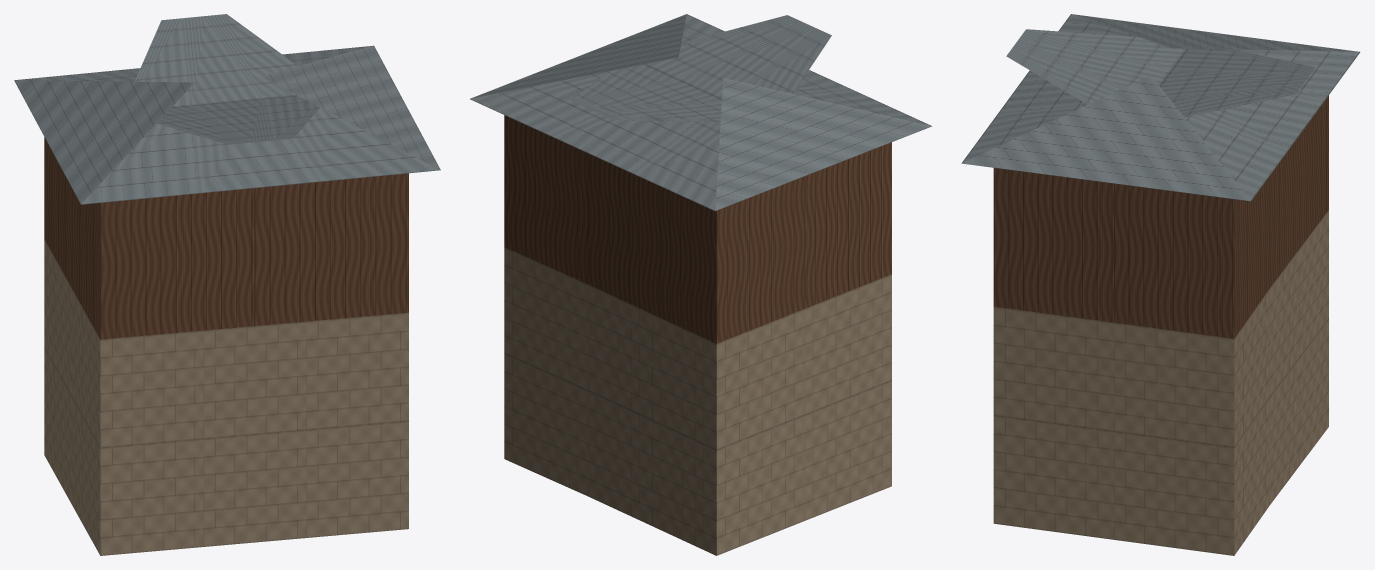
File: bld_c-2_-23_740.gltf
3 views of the same model, side by side, from view 1: azimuth 30°, elevation 25°; view 2: azimuth 150°, elevation 25°; view 3: azimuth 270°, elevation 25° (orthographic). The views are drawn at different scales.
Parts seen in each view (by area): view 1: bld_c-2_-23_740; view 2: bld_c-2_-23_740; view 3: bld_c-2_-23_740.
Part boxes in pixels (x1=…): bld_c-2_-23_740: x1=14, y1=14, x2=440, y2=555; bld_c-2_-23_740: x1=470, y1=14, x2=931, y2=555; bld_c-2_-23_740: x1=961, y1=14, x2=1360, y2=555.
Bounding box in the file's own units: 8.74 × 9 × 7.87.
Materials: 3 (3 with a texture image).
